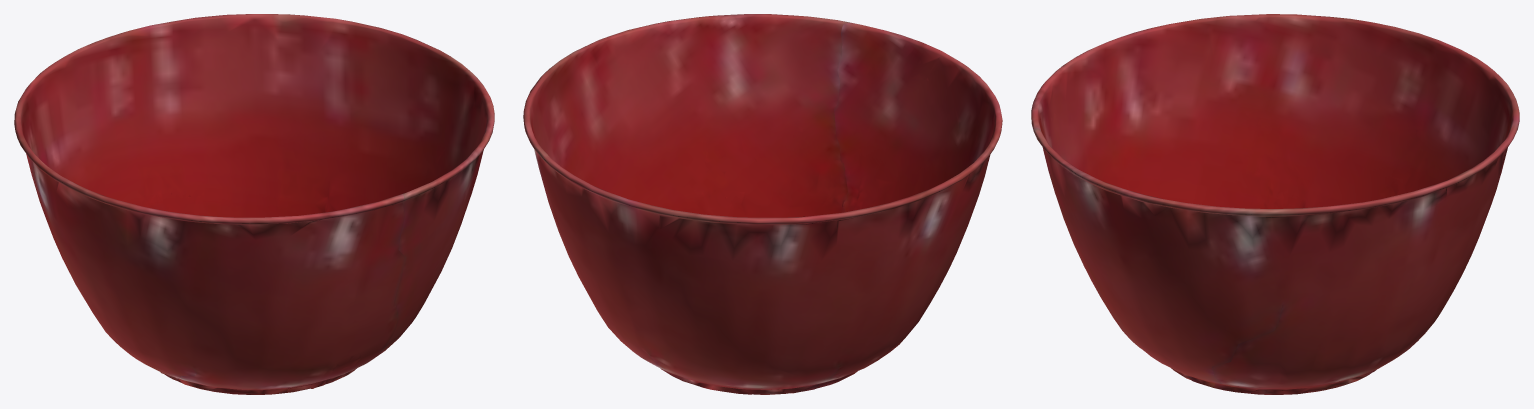
File: Bradshaw_International_11642_7_Qt_MP_Plastic_Bowl-high.glb
3 views of the same model, side by side, from view 1: azimuth 30°, elevation 25°; view 2: azimuth 150°, elevation 25°; view 3: azimuth 270°, elevation 25° (orthographic).
Parts seen in each view (by area): view 1: Bradshaw_International_11642_7_Qt_MP_Plastic_Bowl; view 2: Bradshaw_International_11642_7_Qt_MP_Plastic_Bowl; view 3: Bradshaw_International_11642_7_Qt_MP_Plastic_Bowl.
Boxes of the visible parts, left/top/right/bottom form: Bradshaw_International_11642_7_Qt_MP_Plastic_Bowl: left=14, top=14, right=494, bottom=394; Bradshaw_International_11642_7_Qt_MP_Plastic_Bowl: left=523, top=14, right=1002, bottom=394; Bradshaw_International_11642_7_Qt_MP_Plastic_Bowl: left=1031, top=14, right=1519, bottom=394.
Bounding box in the file's own units: 0.2826 × 0.1545 × 0.2851.
1 material, 1 textured.
